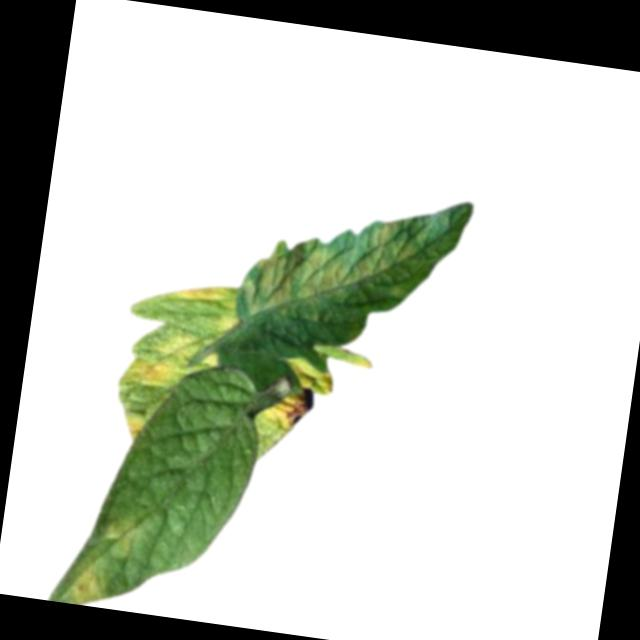Leaf_Mold: (239, 191, 431, 340), (119, 326, 223, 400), (261, 352, 336, 437), (166, 279, 233, 308), (68, 563, 111, 607), (99, 517, 141, 562), (121, 413, 147, 446)
